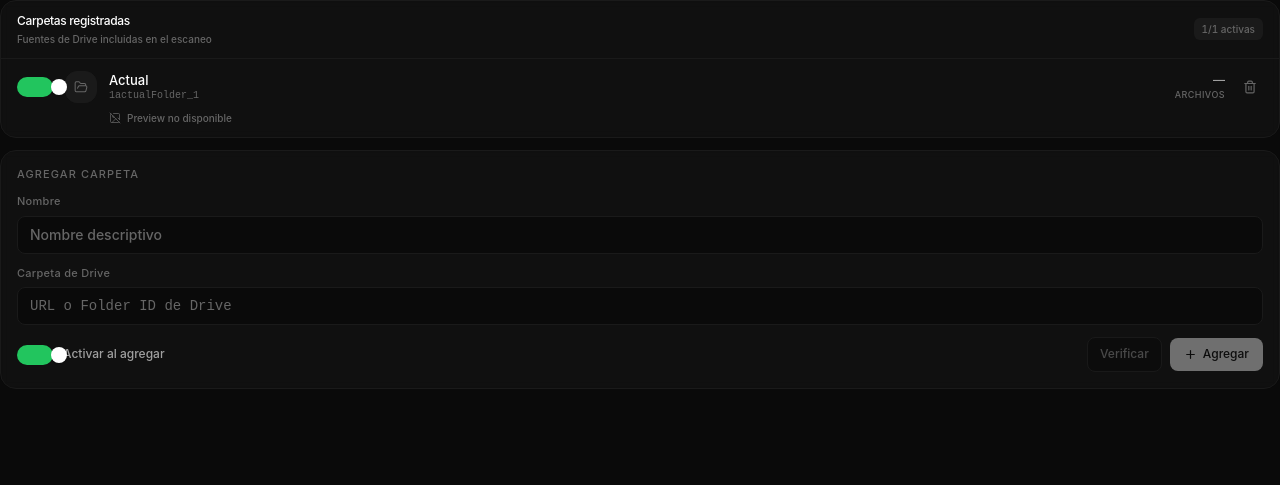
Test: FolderMgmt — Nueva carpeta › usa la lista devuelta por la mutación sin recargar carpetas
Type "Nueva" into the field with placeholder "Nombre descriptivo" at (640, 235), box [17, 216, 1263, 254]
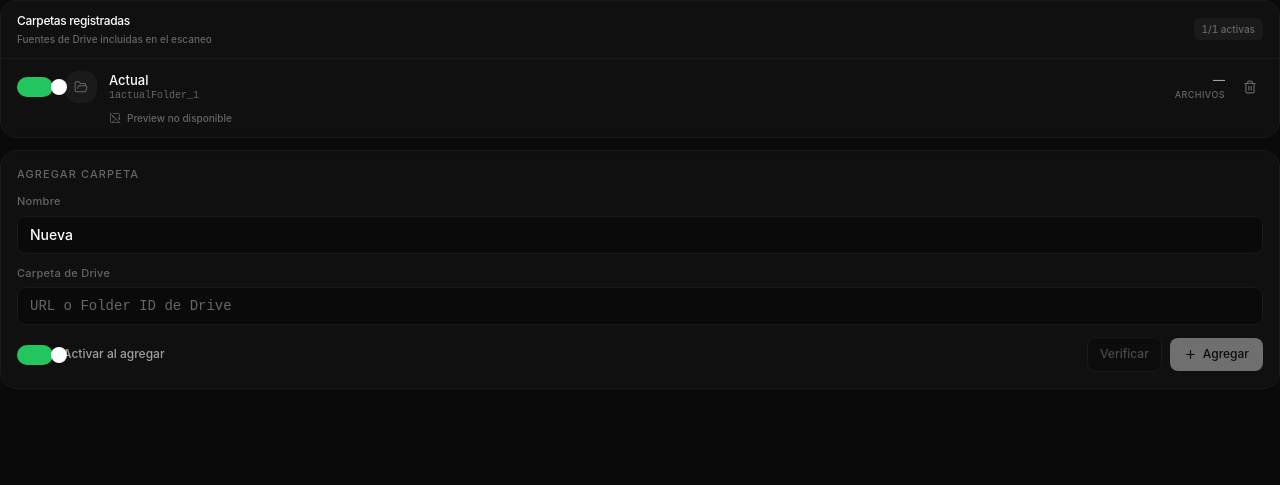
Type "1newFolder_123" into the field with placeholder "URL o Folder ID de Drive" at (640, 306), box [17, 287, 1263, 325]
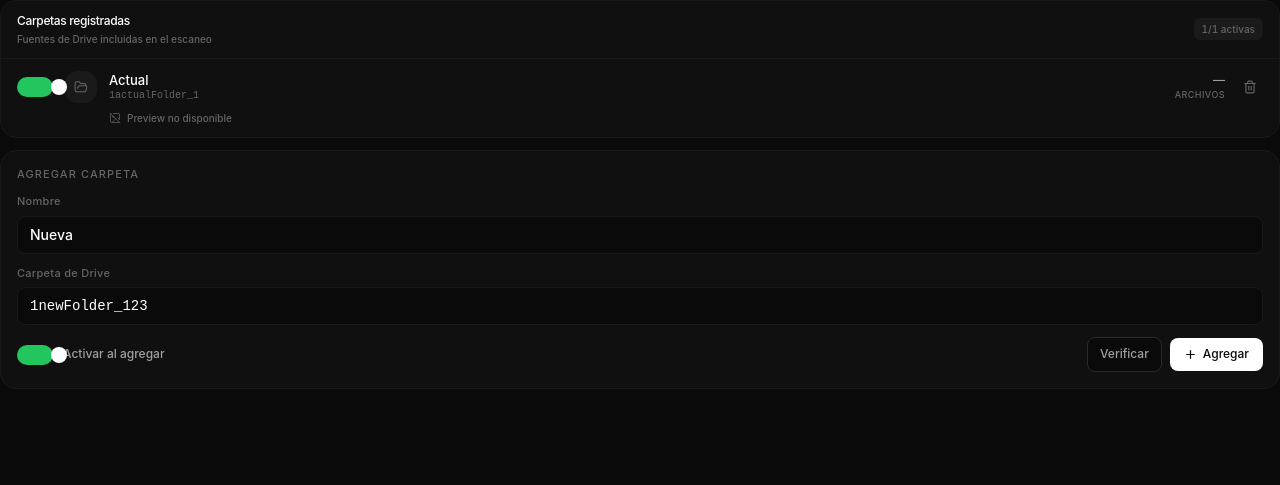
Click the button "Agregar" at (1216, 355), box [1170, 338, 1263, 371]
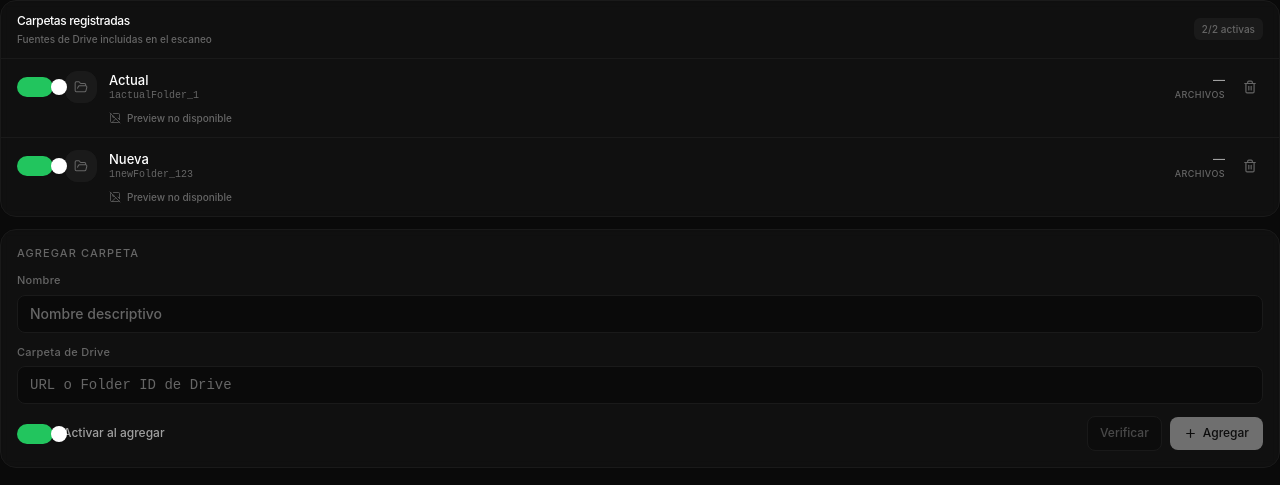
Result: the text "Nueva" is shown at [109, 151, 149, 167]
